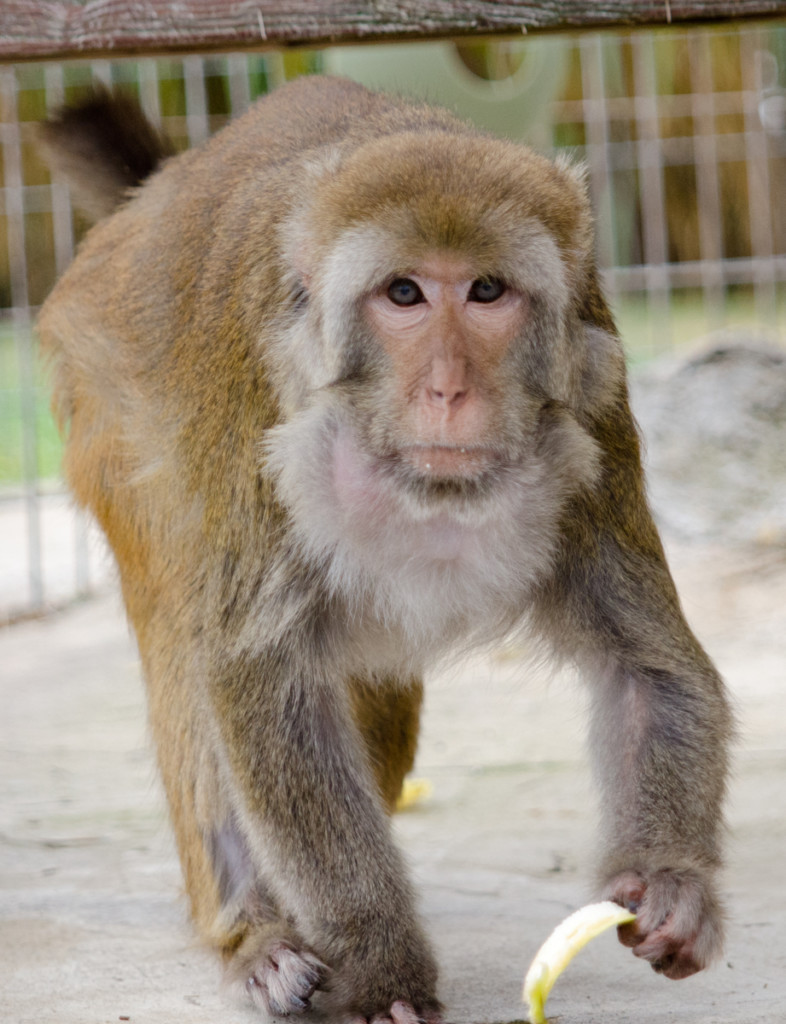monkey: (32, 76, 768, 1024)
